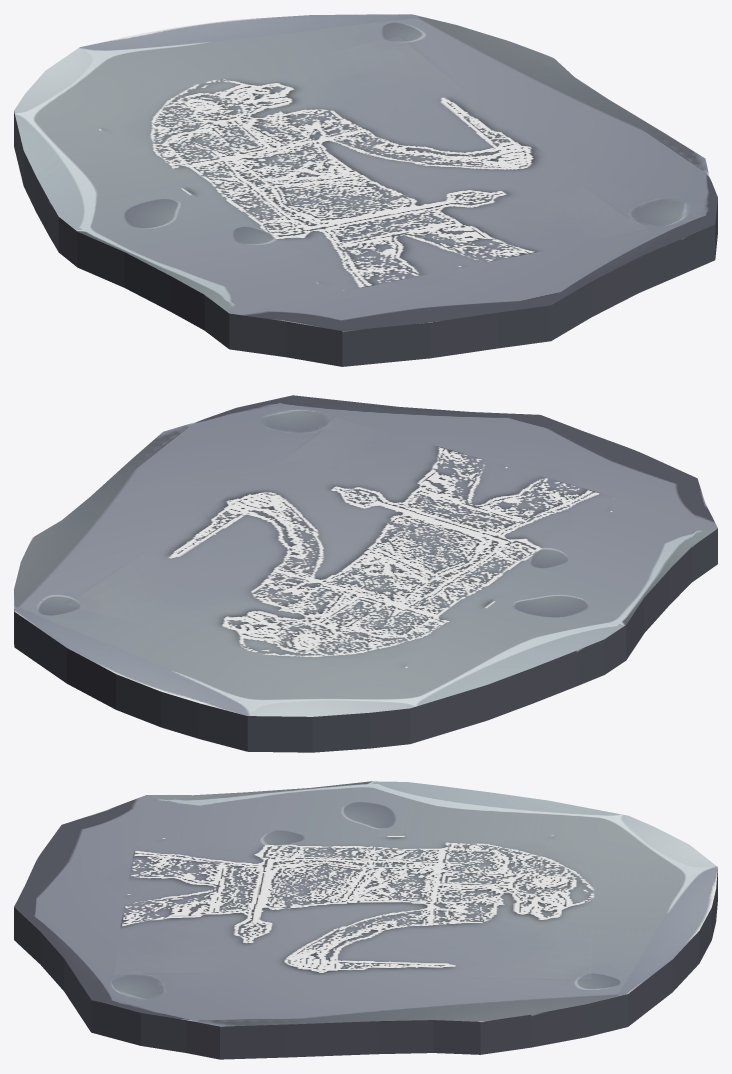
Rendered from runeBabiWhite.glb.
The picture shows the model from 3 angles, top to bottom: view 1: azimuth 30°, elevation 25°; view 2: azimuth 150°, elevation 25°; view 3: azimuth 270°, elevation 25°; orthographic projection. The views are drawn at different scales.
Visible parts, largest first — view 1: rune; view 2: rune; view 3: rune.
Boxes of the visible parts, <box> form: rune: <box>14,14,717,366</box>; rune: <box>14,395,717,752</box>; rune: <box>14,781,717,1059</box>.
Size of the model in its own units: 0.8115 by 0.0509 by 0.9844.
1 material, 1 textured.
